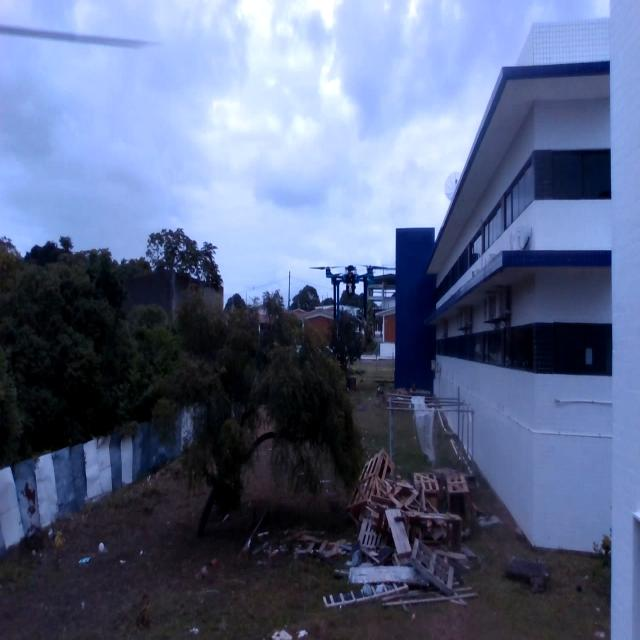-uav-: (309, 255, 393, 329)
